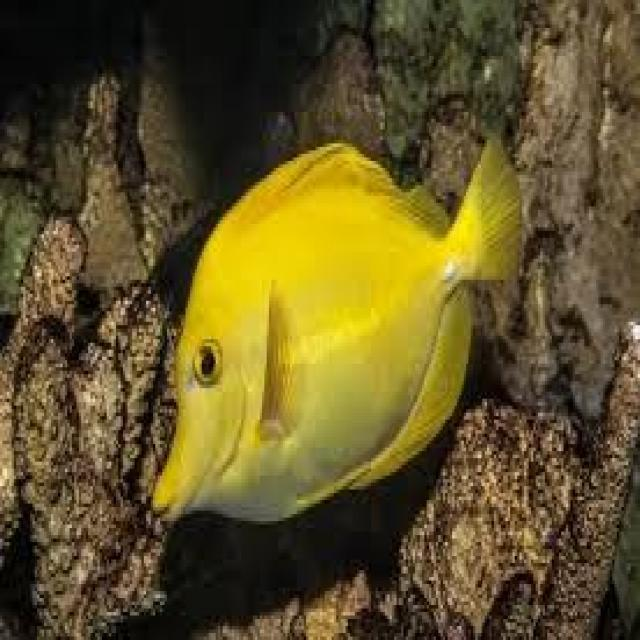YellowTang: (152, 104, 530, 549)
